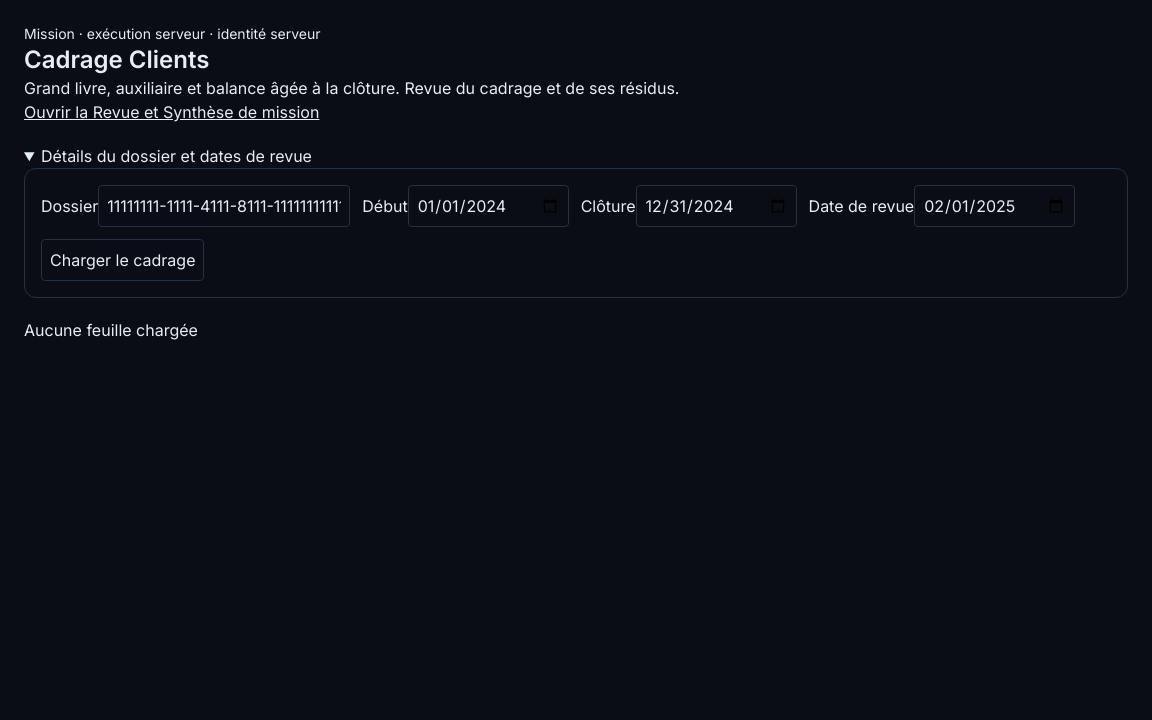
Test: état de sauvegarde de la feuille Clients › une version verrouillée affichée sans saisie est en lecture seule, jamais « non sauvegardée »
The image size is (1152, 720).
Click the button "Charger le cadrage" at (123, 260), box [41, 239, 204, 281]
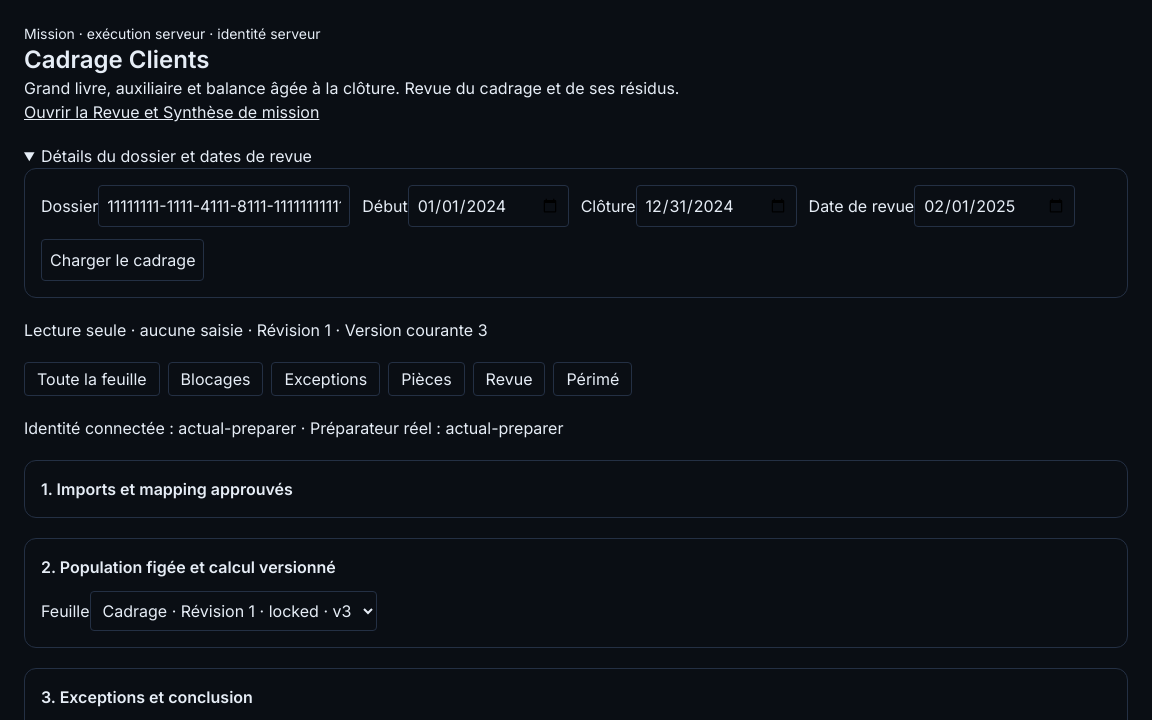
Check: the text "Identité connectée : actual-preparer" is shown, box [24, 418, 563, 438]
Check: the message shows "Lecture seule · aucune saisie", box [24, 320, 243, 340]
